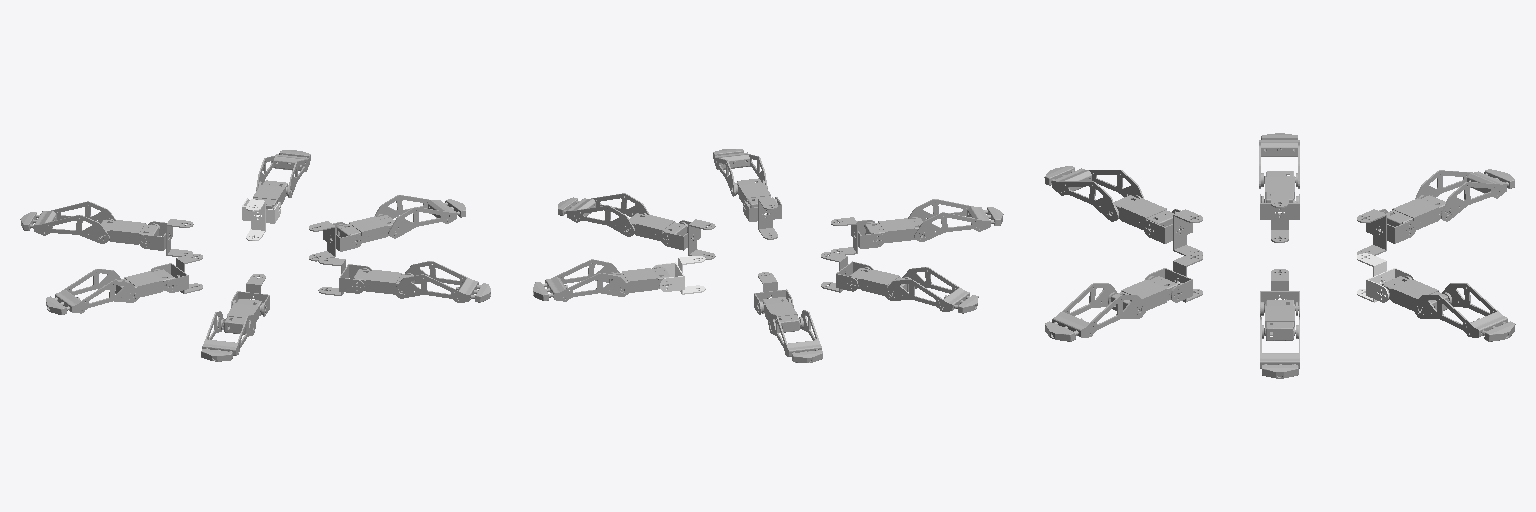
--- Render facts (derived) ---
Views: 3 orthographic renders of the robot side by side, from view 1: azimuth 30°, elevation 25°; view 2: azimuth 150°, elevation 25°; view 3: azimuth 270°, elevation 25°.
Model SLDASM with 19 links and 18 joints (18 revolute), rooted at base_link, posed all joints at 0.
Visible links, largest first — view 1: Empty_Link4_3, Empty_Link2_3, Empty_Link1_3, Empty_Link5_3, Empty_Link3_3, Empty_Link6_3, Empty_Link5_2, Empty_Link1_2, Empty_Link6_1, Empty_Link5_1, Empty_Link1_1, Empty_Link4_2 (+6 smaller); view 2: Empty_Link6_3, Empty_Link2_3, Empty_Link3_3, Empty_Link5_3, Empty_Link1_3, Empty_Link4_3, Empty_Link5_2, Empty_Link3_2, Empty_Link4_1, Empty_Link5_1, Empty_Link3_1, Empty_Link6_2 (+6 smaller); view 3: Empty_Link6_3, Empty_Link4_3, Empty_Link3_3, Empty_Link1_3, Empty_Link1_1, Empty_Link3_1, Empty_Link5_2, Empty_Link3_2, Empty_Link1_2, Empty_Link2_1, Empty_Link4_2, Empty_Link6_2 (+6 smaller).
Link boxes in pixels (bbox=[...]): Empty_Link4_3: bbox=[394, 261, 490, 302]; Empty_Link2_3: bbox=[46, 269, 139, 314]; Empty_Link1_3: bbox=[20, 201, 115, 243]; Empty_Link5_3: bbox=[375, 195, 465, 238]; Empty_Link3_3: bbox=[201, 311, 255, 361]; Empty_Link6_3: bbox=[256, 150, 310, 197]; Empty_Link5_2: bbox=[336, 214, 397, 242]; Empty_Link1_2: bbox=[100, 218, 159, 245]; Empty_Link6_1: bbox=[242, 198, 280, 240]; Empty_Link5_1: bbox=[309, 221, 362, 261]; Empty_Link1_1: bbox=[139, 219, 193, 256]; Empty_Link4_2: bbox=[353, 268, 415, 294]; Empty_Link6_3: bbox=[533, 259, 629, 301]; Empty_Link2_3: bbox=[884, 267, 978, 313]; Empty_Link3_3: bbox=[908, 199, 1003, 241]; Empty_Link5_3: bbox=[558, 193, 649, 236]; Empty_Link1_3: bbox=[768, 310, 822, 362]; Empty_Link4_3: bbox=[713, 149, 767, 196]; Empty_Link5_2: bbox=[626, 213, 687, 241]; Empty_Link3_2: bbox=[864, 217, 923, 244]; Empty_Link4_1: bbox=[743, 197, 781, 239]; Empty_Link5_1: bbox=[661, 219, 715, 259]; Empty_Link3_1: bbox=[831, 217, 884, 255]; Empty_Link6_2: bbox=[609, 266, 671, 292]; Empty_Link6_3: bbox=[1413, 283, 1515, 341]; Empty_Link4_3: bbox=[1045, 283, 1146, 341]; Empty_Link3_3: bbox=[1044, 166, 1143, 221]; Empty_Link1_3: bbox=[1415, 169, 1514, 221]; Empty_Link1_1: bbox=[1357, 209, 1415, 255]; Empty_Link3_1: bbox=[1143, 209, 1202, 255]; Empty_Link5_2: bbox=[1261, 299, 1298, 340]; Empty_Link3_2: bbox=[1110, 195, 1177, 230]; Empty_Link1_2: bbox=[1382, 195, 1449, 230]; Empty_Link2_1: bbox=[1260, 194, 1299, 242]; Empty_Link4_2: bbox=[1108, 276, 1178, 312]; Empty_Link6_2: bbox=[1378, 276, 1451, 312].
Size in the robot's own frame: 0.7878 by 0.6561 by 0.0646 metres.
18 mesh visuals loaded from 19 distinct referenced files (18 binary STL); not drawn: 1 (reference not matched to a file when rendering).

robot.urdf — SLDASM:
<?xml version="1.0" encoding="utf-8"?>
<!-- This URDF was automatically created by SolidWorks to URDF Exporter! Originally created by Stephen Brawner ([email redacted]) 
     Commit Version: 1.5.1-0-g916b5db  Build Version: 1.5.7152.31018
     For more information, please see http://wiki.ros.org/sw_urdf_exporter -->
<robot
  name="SLDASM">
  <link
    name="base_link">
    <inertial>
      <origin
        xyz="-2.5772E-13 -2.0178E-13 0.0029343"
        rpy="0 0 0" />
      <mass
        value="0.29247" />
      <inertia
        ixx="0.00043525"
        ixy="1.8741E-07"
        ixz="-1.2546E-17"
        iyy="0.00021502"
        iyz="1.8525E-17"
        izz="0.00064391" />
    </inertial>
    <visual>
      <origin
        xyz="0 0 0"
        rpy="0 0 0" />
      <geometry>
        <mesh
          filename="package://SLDASM/meshes/base_link.STL" />
      </geometry>
      <material
        name="">
        <color
          rgba="0.75294 0.75294 0.75294 1" />
      </material>
    </visual>
    <collision>
      <origin
        xyz="0 0 0"
        rpy="0 0 0" />
      <geometry>
        <mesh
          filename="package://SLDASM/meshes/base_link.STL" />
      </geometry>
    </collision>
  </link>
  <link
    name="Empty_Link1_1">
    <inertial>
      <origin
        xyz="-1.3878E-17 0.03 0.001894"
        rpy="0 0 0" />
      <mass
        value="0.012485" />
      <inertia
        ixx="5.692E-06"
        ixy="-4.0234E-21"
        ixz="1.8981E-21"
        iyy="7.299E-06"
        iyz="2.4588E-22"
        izz="5.692E-06" />
    </inertial>
    <visual>
      <origin
        xyz="0 0 0"
        rpy="0 0 0" />
      <geometry>
        <mesh
          filename="package://SLDASM/meshes/Empty_Link1_1.STL" />
      </geometry>
      <material
        name="">
        <color
          rgba="0.75294 0.75294 0.75294 1" />
      </material>
    </visual>
    <collision>
      <origin
        xyz="0 0 0"
        rpy="0 0 0" />
      <geometry>
        <mesh
          filename="package://SLDASM/meshes/Empty_Link1_1.STL" />
      </geometry>
    </collision>
  </link>
  <joint
    name="L1_1"
    type="revolute">
    <origin
      xyz="-0.064106 0.11911 -0.00083011"
      rpy="0 0 0.7854" />
    <parent
      link="base_link" />
    <child
      link="Empty_Link1_1" />
    <axis
      xyz="0 0 1" />
    <limit
      lower="-2.0944"
      upper="2.0944"
      effort="0"
      velocity="0" />
  </joint>
  <link
    name="Empty_Link1_2">
    <inertial>
      <origin
        xyz="2.23010497105575E-05 0.0379786312282531 0.000316026230529565"
        rpy="0 0 0" />
      <mass
        value="0.0611809794136084" />
      <inertia
        ixx="9.9543586684263E-06"
        ixy="3.72353040733886E-09"
        ixz="-2.73045208860096E-18"
        iyy="4.21625737936107E-06"
        iyz="1.97092642232907E-10"
        izz="1.00256802197203E-05" />
    </inertial>
    <visual>
      <origin
        xyz="0 0 0"
        rpy="0 0 0" />
      <geometry>
        <mesh
          filename="package://SLDASM/meshes/Empty_Link1_2.STL" />
      </geometry>
      <material
        name="">
        <color
          rgba="0.752941176470588 0.752941176470588 0.752941176470588 1" />
      </material>
    </visual>
    <collision>
      <origin
        xyz="0 0 0"
        rpy="0 0 0" />
      <geometry>
        <mesh
          filename="package://SLDASM/meshes/Empty_Link1_2.STL" />
      </geometry>
    </collision>
  </link>
  <joint
    name="L1_2"
    type="revolute">
    <origin
      xyz="0 0.06 0.001894"
      rpy="0 0 0" />
    <parent
      link="Empty_Link1_1" />
    <child
      link="Empty_Link1_2" />
    <axis
      xyz="-1 0 0" />
    <limit
      lower="-2.0944"
      upper="2.0944"
      effort="0"
      velocity="0" />
  </joint>
  <link
    name="Empty_Link1_3">
    <inertial>
      <origin
        xyz="-0.000205402388474427 0.090567333545968 0.00386969200627693"
        rpy="0 0 0" />
      <mass
        value="0.0425517722360711" />
      <inertia
        ixx="2.10424482746868E-05"
        ixy="-5.48654700730799E-12"
        ixz="3.5917796924978E-12"
        iyy="8.32040293601251E-06"
        iyz="4.63417073629606E-07"
        izz="2.49644856307801E-05" />
    </inertial>
    <visual>
      <origin
        xyz="0 0 0"
        rpy="0 0 0" />
      <geometry>
        <mesh
          filename="package://SLDASM/meshes/Empty_Link1_3.STL" />
      </geometry>
      <material
        name="">
        <color
          rgba="0.752941176470588 0.752941176470588 0.752941176470588 1" />
      </material>
    </visual>
    <collision>
      <origin
        xyz="0 0 0"
        rpy="0 0 0" />
      <geometry>
        <mesh
          filename="package://SLDASM/meshes/Empty_Link1_3.STL" />
      </geometry>
    </collision>
  </link>
  <joint
    name="L1_3"
    type="revolute">
    <origin
      xyz="0 0.075807 -9.4375E-05"
      rpy="0 0 0" />
    <parent
      link="Empty_Link1_2" />
    <child
      link="Empty_Link1_3" />
    <axis
      xyz="1 0 0" />
    <limit
      lower="-2.0944"
      upper="2.0944"
      effort="0"
      velocity="0" />
  </joint>
  <link
    name="Empty_Link2_1">
    <inertial>
      <origin
        xyz="1.34695927764225E-17 0.0299999999999999 0.0018947216847601"
        rpy="0 0 0" />
      <mass
        value="0.0124849113953182" />
      <inertia
        ixx="5.69203233862196E-06"
        ixy="-3.28180298735742E-21"
        ixz="4.23256396384778E-21"
        iyy="7.29898011192699E-06"
        iyz="-1.35354137821917E-21"
        izz="5.69203233862196E-06" />
    </inertial>
    <visual>
      <origin
        xyz="0 0 0"
        rpy="0 0 0" />
      <geometry>
        <mesh
          filename="package://SLDASM/meshes/Empty_Link2_1.STL" />
      </geometry>
      <material
        name="">
        <color
          rgba="0.752941176470588 0.752941176470588 0.752941176470588 1" />
      </material>
    </visual>
    <collision>
      <origin
        xyz="0 0 0"
        rpy="0 0 0" />
      <geometry>
        <mesh
          filename="package://SLDASM/meshes/Empty_Link2_1.STL" />
      </geometry>
    </collision>
  </link>
  <joint
    name="L2_1"
    type="revolute">
    <origin
      xyz="-0.11402 0 -0.00083078"
      rpy="0 0 1.5708" />
    <parent
      link="base_link" />
    <child
      link="Empty_Link2_1" />
    <axis
      xyz="0 0 -1" />
    <limit
      lower="-2.0944"
      upper="2.0944"
      effort="0"
      velocity="0" />
  </joint>
  <link
    name="Empty_Link2_2">
    <inertial>
      <origin
        xyz="2.23010498984379E-05 0.0379786311474948 0.000316023691016628"
        rpy="0 0 0" />
      <mass
        value="0.0611810446745335" />
      <inertia
        ixx="9.95436231766123E-06"
        ixy="3.72324998234509E-09"
        ixz="1.25933734400021E-17"
        iyy="4.21626350235731E-06"
        iyz="1.97092644321889E-10"
        izz="1.00256789520649E-05" />
    </inertial>
    <visual>
      <origin
        xyz="0 0 0"
        rpy="0 0 0" />
      <geometry>
        <mesh
          filename="package://SLDASM/meshes/Empty_Link2_2.STL" />
      </geometry>
      <material
        name="">
        <color
          rgba="0.752941176470588 0.752941176470588 0.752941176470588 1" />
      </material>
    </visual>
    <collision>
      <origin
        xyz="0 0 0"
        rpy="0 0 0" />
      <geometry>
        <mesh
          filename="package://SLDASM/meshes/Empty_Link2_2.STL" />
      </geometry>
    </collision>
  </link>
  <joint
    name="L2_2"
    type="revolute">
    <origin
      xyz="0 0.06 0.0018947"
      rpy="0 0 0" />
    <parent
      link="Empty_Link2_1" />
    <child
      link="Empty_Link2_2" />
    <axis
      xyz="1 0 0" />
    <limit
      lower="-2.0944"
      upper="2.0944"
      effort="0"
      velocity="0" />
  </joint>
  <link
    name="Empty_Link2_3">
    <inertial>
      <origin
        xyz="-0.000205402445964697 0.090567316894586 0.00386969252647781"
        rpy="0 0 0" />
      <mass
        value="0.0425517593525127" />
      <inertia
        ixx="2.10424482015851E-05"
        ixy="-6.76801899948424E-12"
        ixz="4.10359245204323E-12"
        iyy="8.3204062259025E-06"
        iyz="4.63417591478139E-07"
        izz="2.49644888893537E-05" />
    </inertial>
    <visual>
      <origin
        xyz="0 0 0"
        rpy="0 0 0" />
      <geometry>
        <mesh
          filename="package://SLDASM/meshes/Empty_Link2_3.STL" />
      </geometry>
      <material
        name="">
        <color
          rgba="0.752941176470588 0.752941176470588 0.752941176470588 1" />
      </material>
    </visual>
    <collision>
      <origin
        xyz="0 0 0"
        rpy="0 0 0" />
      <geometry>
        <mesh
          filename="package://SLDASM/meshes/Empty_Link2_3.STL" />
      </geometry>
    </collision>
  </link>
  <joint
    name="L2_3"
    type="revolute">
    <origin
      xyz="0 0.075807 -9.4375E-05"
      rpy="0 0 0" />
    <parent
      link="Empty_Link2_2" />
    <child
      link="Empty_Link2_3" />
    <axis
      xyz="1 0 0" />
    <limit
      lower="-2.0944"
      upper="2.0944"
      effort="0"
      velocity="0" />
  </joint>
  <link
    name="Empty_Link3_1">
    <inertial>
      <origin
        xyz="-2.77555756156289E-17 0.03 0.00116802137717336"
        rpy="0 0 0" />
      <mass
        value="0.0124849113953182" />
      <inertia
        ixx="5.69203233862196E-06"
        ixy="-2.75285707857648E-21"
        ixz="3.40833949687794E-21"
        iyy="7.29898011192699E-06"
        iyz="-4.51178446103114E-21"
        izz="5.69203233862197E-06" />
    </inertial>
    <visual>
      <origin
        xyz="0 0 0"
        rpy="0 0 0" />
      <geometry>
        <mesh
          filename="package://SLDASM/meshes/Empty_Link3_1.STL" />
      </geometry>
      <material
        name="">
        <color
          rgba="0.752941176470588 0.752941176470588 0.752941176470588 1" />
      </material>
    </visual>
    <collision>
      <origin
        xyz="0 0 0"
        rpy="0 0 0" />
      <geometry>
        <mesh
          filename="package://SLDASM/meshes/Empty_Link3_1.STL" />
      </geometry>
    </collision>
  </link>
  <joint
    name="L3_1"
    type="revolute">
    <origin
      xyz="-0.064106 -0.11911 -0.00010408"
      rpy="0 0 2.3562" />
    <parent
      link="base_link" />
    <child
      link="Empty_Link3_1" />
    <axis
      xyz="0 0 -1" />
    <limit
      lower="-2.0944"
      upper="2.0944"
      effort="0"
      velocity="0" />
  </joint>
  <link
    name="Empty_Link3_2">
    <inertial>
      <origin
        xyz="2.23010495962045E-05 0.0379786312284709 0.00031602623055808"
        rpy="0 0 0" />
      <mass
        value="0.0611809794132485" />
      <inertia
        ixx="9.95435866842593E-06"
        ixy="3.72353040909264E-09"
        ixz="-1.15343432344502E-17"
        iyy="4.21625737934612E-06"
        iyz="1.97092640729349E-10"
        izz="1.00256802197127E-05" />
    </inertial>
    <visual>
      <origin
        xyz="0 0 0"
        rpy="0 0 0" />
      <geometry>
        <mesh
          filename="package://SLDASM/meshes/Empty_Link3_2.STL" />
      </geometry>
      <material
        name="">
        <color
          rgba="0.752941176470588 0.752941176470588 0.752941176470588 1" />
      </material>
    </visual>
    <collision>
      <origin
        xyz="0 0 0"
        rpy="0 0 0" />
      <geometry>
        <mesh
          filename="package://SLDASM/meshes/Empty_Link3_2.STL" />
      </geometry>
    </collision>
  </link>
  <joint
    name="L3_2"
    type="revolute">
    <origin
      xyz="0 0.06 0.001168"
      rpy="0 0 0" />
    <parent
      link="Empty_Link3_1" />
    <child
      link="Empty_Link3_2" />
    <axis
      xyz="1 0 0" />
    <limit
      lower="-2.0944"
      upper="2.0944"
      effort="0"
      velocity="0" />
  </joint>
  <link
    name="Empty_Link3_3">
    <inertial>
      <origin
        xyz="-0.000205401933015534 0.0903278126993768 0.00763559797177255"
        rpy="0 0 0" />
      <mass
        value="0.0425517702502532" />
      <inertia
        ixx="2.10424482178194E-05"
        ixy="-5.8767108543291E-12"
        ixz="3.32951603119302E-12"
        iyy="8.31069191683203E-06"
        iyz="-2.30286618475183E-07"
        izz="2.49741964470486E-05" />
    </inertial>
    <visual>
      <origin
        xyz="0 0 0"
        rpy="0 0 0" />
      <geometry>
        <mesh
          filename="package://SLDASM/meshes/Empty_Link3_3.STL" />
      </geometry>
      <material
        name="">
        <color
          rgba="0.752941176470588 0.752941176470588 0.752941176470588 1" />
      </material>
    </visual>
    <collision>
      <origin
        xyz="0 0 0"
        rpy="0 0 0" />
      <geometry>
        <mesh
          filename="package://SLDASM/meshes/Empty_Link3_3.STL" />
      </geometry>
    </collision>
  </link>
  <joint
    name="L3_3"
    type="revolute">
    <origin
      xyz="0 0.075807 -9.4375E-05"
      rpy="0 0 0" />
    <parent
      link="Empty_Link3_2" />
    <child
      link="Empty_Link3_3" />
    <axis
      xyz="1 0 0" />
    <limit
      lower="-2.0944"
      upper="2.0944"
      effort="0"
      velocity="0" />
  </joint>
  <link
    name="Empty_Link4_1">
    <inertial>
      <origin
        xyz="-1.38777878078145E-17 0.03 0.000233833743558315"
        rpy="0 0 0" />
      <mass
        value="0.0124849113953182" />
      <inertia
        ixx="5.69203233862196E-06"
        ixy="-2.5410988417629E-21"
        ixz="4.09844305011973E-21"
        iyy="7.29898011192698E-06"
        iyz="3.89192643657554E-21"
        izz="5.69203233862196E-06" />
    </inertial>
    <visual>
      <origin
        xyz="0 0 0"
        rpy="0 0 0" />
      <geometry>
        <mesh
          filename="package://SLDASM/meshes/Empty_Link4_1.STL" />
      </geometry>
      <material
        name="">
        <color
          rgba="0.752941176470588 0.752941176470588 0.752941176470588 1" />
      </material>
    </visual>
    <collision>
      <origin
        xyz="0 0 0"
        rpy="0 0 0" />
      <geometry>
        <mesh
          filename="package://SLDASM/meshes/Empty_Link4_1.STL" />
      </geometry>
    </collision>
  </link>
  <joint
    name="L4_1"
    type="revolute">
    <origin
      xyz="0.064106 -0.11911 0.00083011"
      rpy="0 0 -2.3562" />
    <parent
      link="base_link" />
    <child
      link="Empty_Link4_1" />
    <axis
      xyz="0 0 1" />
    <limit
      lower="-2.0944"
      upper="2.0944"
      effort="0"
      velocity="0" />
  </joint>
  <link
    name="Empty_Link4_2">
    <inertial>
      <origin
        xyz="2.23010496335774E-05 0.0379786312280972 0.000316026230530893"
        rpy="0 0 0" />
      <mass
        value="0.0611809794141035" />
      <inertia
        ixx="9.9543586685095E-06"
        ixy="3.72353041380998E-09"
        ixz="9.75178198132672E-19"
        iyy="4.21625737936793E-06"
        iyz="1.97092631289633E-10"
        izz="1.00256802198048E-05" />
    </inertial>
    <visual>
      <origin
        xyz="0 0 0"
        rpy="0 0 0" />
      <geometry>
        <mesh
          filename="package://SLDASM/meshes/Empty_Link4_2.STL" />
      </geometry>
      <material
        name="">
        <color
          rgba="0.752941176470588 0.752941176470588 0.752941176470588 1" />
      </material>
    </visual>
    <collision>
      <origin
        xyz="0 0 0"
        rpy="0 0 0" />
      <geometry>
        <mesh
          filename="package://SLDASM/meshes/Empty_Link4_2.STL" />
      </geometry>
    </collision>
  </link>
  <joint
    name="L4_2"
    type="revolute">
    <origin
      xyz="0 0.06 0.00023383"
      rpy="0 0 0" />
    <parent
      link="Empty_Link4_1" />
    <child
      link="Empty_Link4_2" />
    <axis
      xyz="-1 0 0" />
    <limit
      lower="-2.0944"
      upper="2.0944"
      effort="0"
      velocity="0" />
  </joint>
  <link
    name="Empty_Link4_3">
    <inertial>
      <origin
        xyz="-0.000205402388474163 0.0905673335459682 0.00386969200627698"
        rpy="0 0 0" />
      <mass
        value="0.0425517722360712" />
      <inertia
        ixx="2.10424482746869E-05"
        ixy="-5.4865470102726E-12"
        ixz="3.59177969120469E-12"
        iyy="8.32040293601252E-06"
        iyz="4.63417073629614E-07"
        izz="2.49644856307801E-05" />
    </inertial>
    <visual>
      <origin
        xyz="0 0 0"
        rpy="0 0 0" />
      <geometry>
        <mesh
          filename="package://SLDASM/meshes/Empty_Link4_3.STL" />
      </geometry>
      <material
        name="">
        <color
          rgba="0.752941176470588 0.752941176470588 0.752941176470588 1" />
      </material>
    </visual>
    <collision>
      <origin
        xyz="0 0 0"
        rpy="0 0 0" />
      <geometry>
        <mesh
          filename="package://SLDASM/meshes/Empty_Link4_3.STL" />
      </geometry>
    </collision>
  </link>
  <joint
    name="L4_3"
    type="revolute">
    <origin
      xyz="0 0.075807 -9.4375E-05"
      rpy="0 0 0" />
    <parent
      link="Empty_Link4_2" />
    <child
      link="Empty_Link4_3" />
    <axis
      xyz="1 0 0" />
    <limit
      lower="-2.0944"
      upper="2.0944"
      effort="0"
      velocity="0" />
  </joint>
  <link
    name="Empty_Link5_1">
    <inertial>
      <origin
        xyz="1.85224882579531E-18 0.03 0.00023316064417904"
        rpy="0 0 0" />
      <mass
        value="0.0124849113953182" />
      <inertia
        ixx="5.69203233862196E-06"
        ixy="3.13865716785285E-21"
        ixz="3.20223988755161E-21"
        iyy="7.29898011192699E-06"
        iyz="1.78621756718691E-21"
        izz="5.69203233862196E-06" />
    </inertial>
    <visual>
      <origin
        xyz="0 0 0"
        rpy="0 0 0" />
      <geometry>
        <mesh
          filename="package://SLDASM/meshes/Empty_Link5_1.STL" />
      </geometry>
      <material
        name="">
        <color
          rgba="0.752941176470588 0.752941176470588 0.752941176470588 1" />
      </material>
    </visual>
    <collision>
      <origin
        xyz="0 0 0"
        rpy="0 0 0" />
      <geometry>
        <mesh
          filename="package://SLDASM/meshes/Empty_Link5_1.STL" />
      </geometry>
    </collision>
  </link>
  <joint
    name="L5_1"
    type="revolute">
    <origin
      xyz="0.11402 0 0.00083078"
      rpy="0 0 -1.5708" />
    <parent
      link="base_link" />
    <child
      link="Empty_Link5_1" />
    <axis
      xyz="0 0 1" />
    <limit
      lower="-2.0944"
      upper="2.0944"
      effort="0"
      velocity="0" />
  </joint>
  <link
    name="Empty_Link5_2">
    <inertial>
      <origin
        xyz="2.23010497450384E-05 0.0379786311477796 0.000316023691054129"
        rpy="0 0 0" />
      <mass
        value="0.0611810446740645" />
      <inertia
        ixx="9.95436231766076E-06"
        ixy="3.72324998456517E-09"
        ixz="3.03485752148019E-20"
        iyy="4.21626350233521E-06"
        iyz="1.97092642536007E-10"
        izz="1.00256789520525E-05" />
    </inertial>
    <visual>
      <origin
        xyz="0 0 0"
        rpy="0 0 0" />
      <geometry>
        <mesh
          filename="package://SLDASM/meshes/Empty_Link5_2.STL" />
      </geometry>
      <material
        name="">
        <color
          rgba="0.752941176470588 0.752941176470588 0.752941176470588 1" />
      </material>
    </visual>
    <collision>
      <origin
        xyz="0 0 0"
        rpy="0 0 0" />
      <geometry>
        <mesh
          filename="package://SLDASM/meshes/Empty_Link5_2.STL" />
      </geometry>
    </collision>
  </link>
  <joint
    name="L5_2"
    type="revolute">
    <origin
      xyz="0 0.06 0.00023316"
      rpy="0 0 0" />
    <parent
      link="Empty_Link5_1" />
    <child
      link="Empty_Link5_2" />
    <axis
      xyz="-1 0 0" />
    <limit
      lower="-2.0944"
      upper="2.0944"
      effort="0"
      velocity="0" />
  </joint>
  <link
    name="Empty_Link5_3">
    <inertial>
      <origin
        xyz="-0.000205402445964644 0.090567316894586 0.00386969252647787"
        rpy="0 0 0" />
      <mass
        value="0.0425517593525128" />
      <inertia
        ixx="2.1042448201585E-05"
        ixy="-6.76801899725818E-12"
        ixz="4.10359244625057E-12"
        iyy="8.32040622590251E-06"
        iyz="4.63417591478128E-07"
        izz="2.49644888893537E-05" />
    </inertial>
    <visual>
      <origin
        xyz="0 0 0"
        rpy="0 0 0" />
      <geometry>
        <mesh
          filename="package://SLDASM/meshes/Empty_Link5_3.STL" />
      </geometry>
      <material
        name="">
        <color
          rgba="0.752941176470588 0.752941176470588 0.752941176470588 1" />
      </material>
    </visual>
    <collision>
      <origin
        xyz="0 0 0"
        rpy="0 0 0" />
      <geometry>
        <mesh
          filename="package://SLDASM/meshes/Empty_Link5_3.STL" />
      </geometry>
    </collision>
  </link>
  <joint
    name="L5_3"
    type="revolute">
    <origin
      xyz="0 0.075807 -9.4375E-05"
      rpy="0 0 0" />
    <parent
      link="Empty_Link5_2" />
    <child
      link="Empty_Link5_3" />
    <axis
      xyz="1 0 0" />
    <limit
      lower="-2.0944"
      upper="2.0944"
      effort="0"
      velocity="0" />
  </joint>
  <link
    name="Empty_Link6_1">
    <inertial>
      <origin
        xyz="0 0 0"
        rpy="0 0 0" />
      <mass
        value="0" />
      <inertia
        ixx="0"
        ixy="0"
        ixz="0"
        iyy="0"
        iyz="0"
        izz="0" />
    </inertial>
    <visual>
      <origin
        xyz="0 0 0"
        rpy="0 0 0" />
      <geometry>
        <mesh
          filename="package://SLDASM/meshes/Empty_Link6_1.STL" />
      </geometry>
      <material
        name="">
        <color
          rgba="1 1 1 1" />
      </material>
    </visual>
    <collision>
      <origin
        xyz="0 0 0"
        rpy="0 0 0" />
      <geometry>
        <mesh
          filename="package://SLDASM/meshes/Empty_Link6_1.STL" />
      </geometry>
    </collision>
  </link>
  <joint
    name="L6_1"
    type="revolute">
    <origin
      xyz="0.064106 0.11911 0.00010408"
      rpy="0 0 -0.7854" />
    <parent
      link="base_link" />
    <child
      link="Empty_Link6_1" />
    <axis
      xyz="0 0 1" />
    <limit
      lower="-2.0944"
      upper="2.0944"
      effort="0"
      velocity="0" />
  </joint>
  <link
    name="Empty_Link6_2">
    <inertial>
      <origin
        xyz="2.23010497450576E-05 0.0379786312281867 0.000316026230520652"
        rpy="0 0 0" />
      <mass
        value="0.0611809794137163" />
      <inertia
        ixx="9.95435866842633E-06"
        ixy="3.7235304069901E-09"
        ixz="3.2649164671794E-20"
        iyy="4.21625737936564E-06"
        iyz="1.97092642538275E-10"
        izz="1.00256802197224E-05" />
    </inertial>
    <visual>
      <origin
        xyz="0 0 0"
        rpy="0 0 0" />
      <geometry>
        <mesh
          filename="package://SLDASM/meshes/Empty_Link6_2.STL" />
      </geometry>
      <material
        name="">
        <color
          rgba="0.752941176470588 0.752941176470588 0.752941176470588 1" />
      </material>
    </visual>
    <collision>
      <origin
        xyz="0 0 0"
        rpy="0 0 0" />
      <geometry>
        <mesh
          filename="package://SLDASM/meshes/Empty_Link6_2.STL" />
      </geometry>
    </collision>
  </link>
  <joint
    name="L6_2"
    type="revolute">
    <origin
      xyz="0 0.06 0.00095986"
      rpy="0 0 0" />
    <parent
      link="Empty_Link6_1" />
    <child
      link="Empty_Link6_2" />
    <axis
      xyz="-1 0 0" />
    <limit
      lower="-2.0944"
      upper="2.0944"
      effort="0"
      velocity="0" />
  </joint>
  <link
    name="Empty_Link6_3">
    <inertial>
      <origin
        xyz="-0.00020540238847426 0.0905673335459682 0.00386969200627693"
        rpy="0 0 0" />
      <mass
        value="0.0425517722360711" />
      <inertia
        ixx="2.10424482746868E-05"
        ixy="-5.48654700222579E-12"
        ixz="3.59177969138059E-12"
        iyy="8.32040293601252E-06"
        iyz="4.63417073629613E-07"
        izz="2.49644856307801E-05" />
    </inertial>
    <visual>
      <origin
        xyz="0 0 0"
        rpy="0 0 0" />
      <geometry>
        <mesh
          filename="package://SLDASM/meshes/Empty_Link6_3.STL" />
      </geometry>
      <material
        name="">
        <color
          rgba="0.752941176470588 0.752941176470588 0.752941176470588 1" />
      </material>
    </visual>
    <collision>
      <origin
        xyz="0 0 0"
        rpy="0 0 0" />
      <geometry>
        <mesh
          filename="package://SLDASM/meshes/Empty_Link6_3.STL" />
      </geometry>
    </collision>
  </link>
  <joint
    name="L6_3"
    type="revolute">
    <origin
      xyz="0 0.075807 -9.4375E-05"
      rpy="0 0 0" />
    <parent
      link="Empty_Link6_2" />
    <child
      link="Empty_Link6_3" />
    <axis
      xyz="1 0 0" />
    <limit
      lower="-2.0944"
      upper="2.0944"
      effort="0"
      velocity="0" />
  </joint>
</robot>
